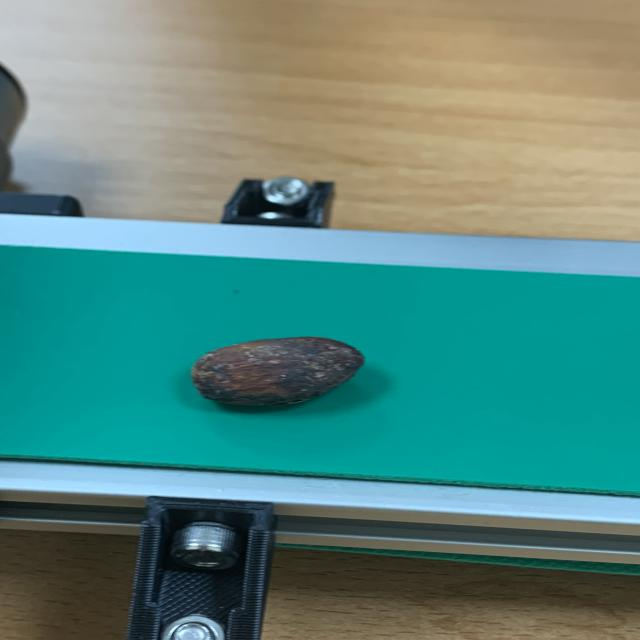Fine_cocoabeans: (130, 300, 450, 454)
